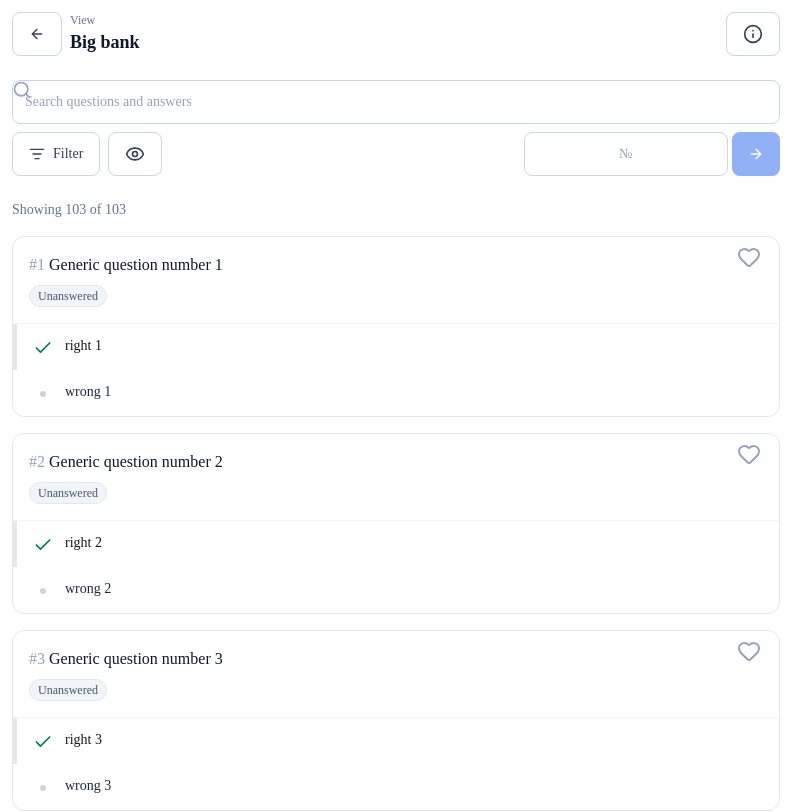
Test case: search › narrows the list as you type and marks the match
Type "capital" into the search field at (396, 102), box [12, 80, 780, 124]
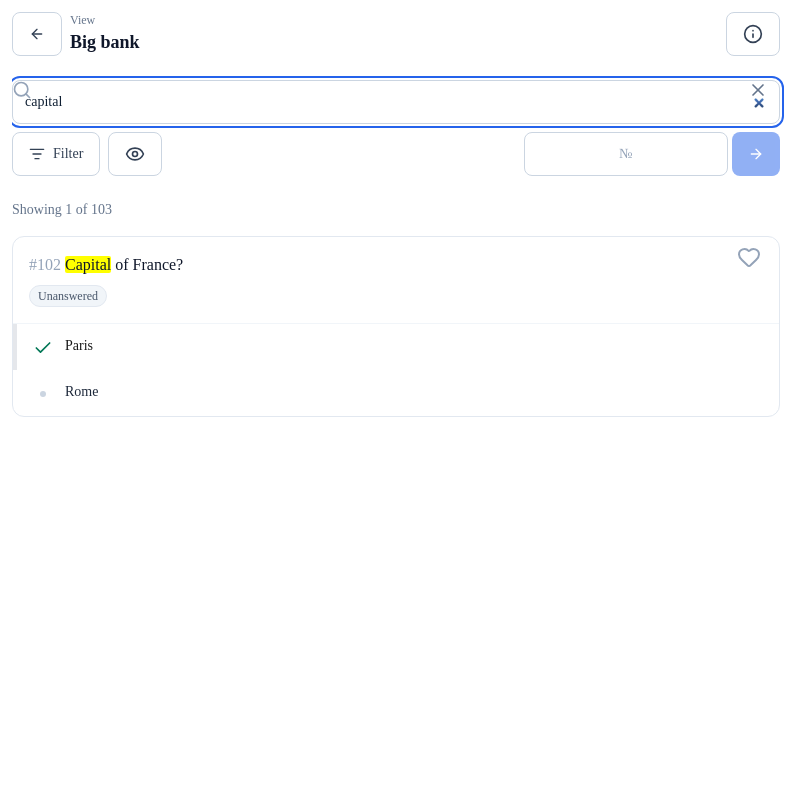
Result: the text "Showing 1 of 103" is shown at [12, 202, 112, 217]
Result: the text "Capital" is shown at [65, 256, 111, 273]
